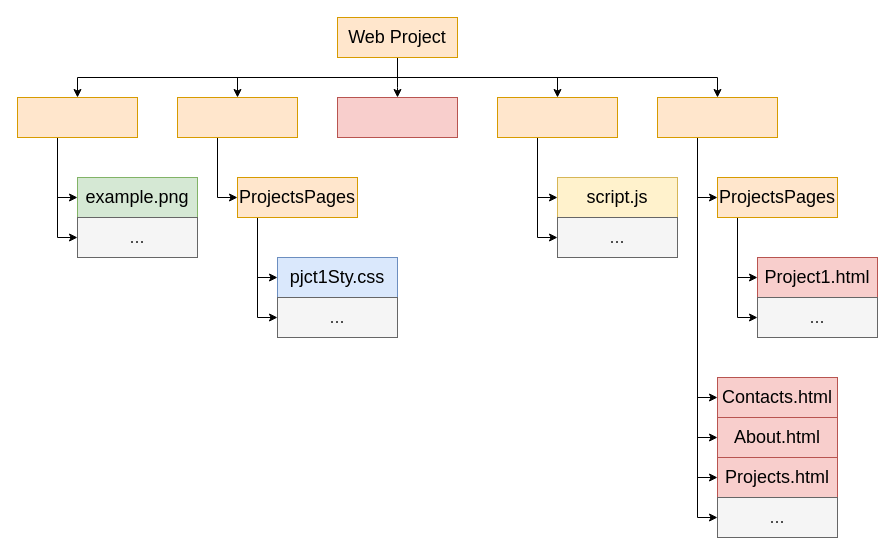
Image size: 895x555. Some labels were removed from this diagram. The centre of each missing label's shape, as x and y in pixels:
Images: (77,117)
index.html: (397,117)
Pages: (717,117)
Scripts: (557,117)
Styles: (237,117)
